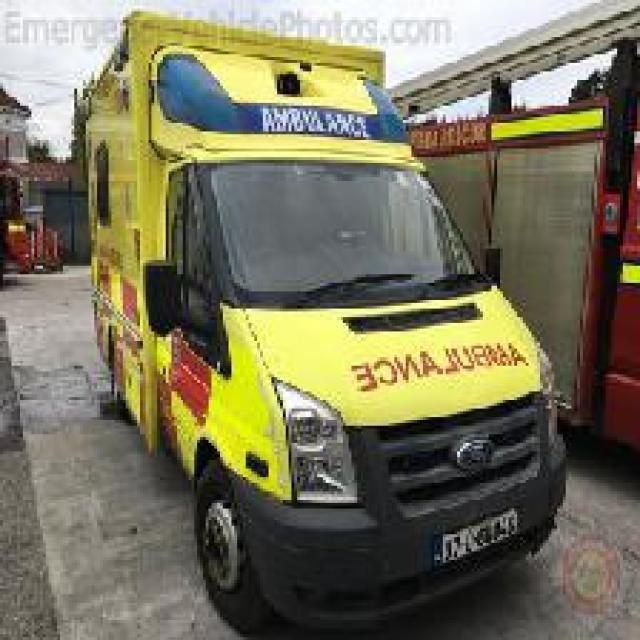emergency: (75, 9, 570, 635)
